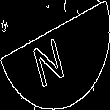N_N: (35, 24, 75, 86)
